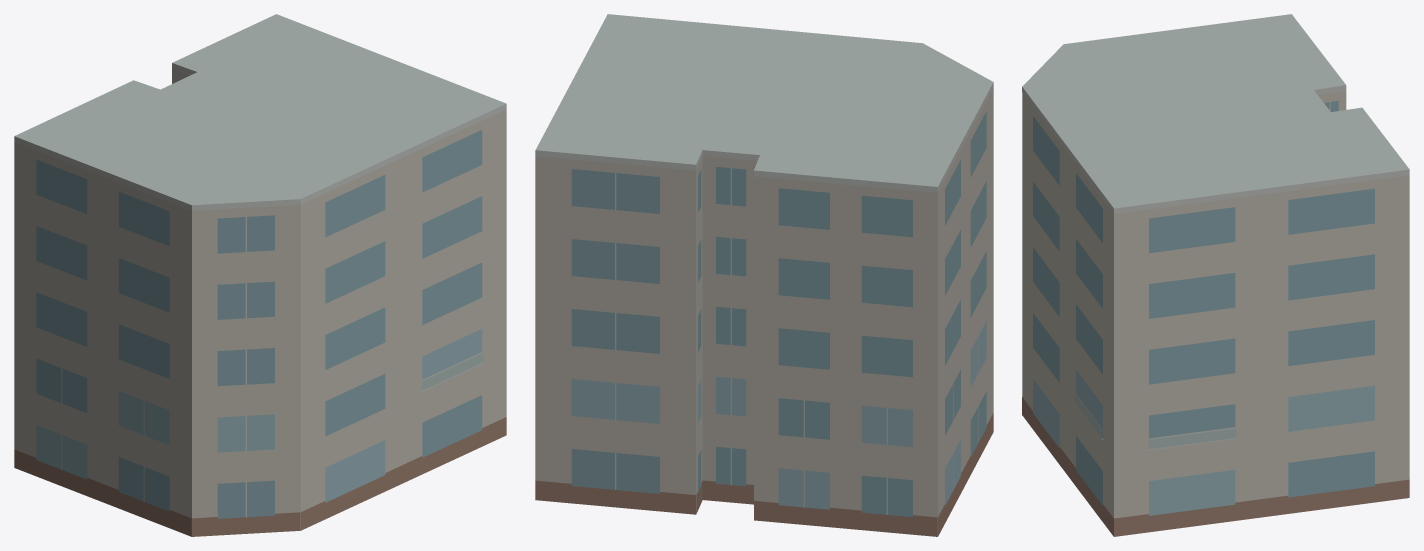
The model's file is survey-upis-32928693.glb.
3 renders of one model, left to right at view 1: azimuth 30°, elevation 25°; view 2: azimuth 150°, elevation 25°; view 3: azimuth 270°, elevation 25°, orthographic. The views are drawn at different scales.
Parts seen in each view (by area): view 1: survey-upis-32928693.tmp; view 2: survey-upis-32928693.tmp; view 3: survey-upis-32928693.tmp.
Boxes of the visible parts, x1,y1,x2,y2 form: survey-upis-32928693.tmp: (14,14,506,536); survey-upis-32928693.tmp: (535,14,993,536); survey-upis-32928693.tmp: (1022,14,1409,536).
Size of the model in its own units: 18.31 by 14.4 by 15.42.
